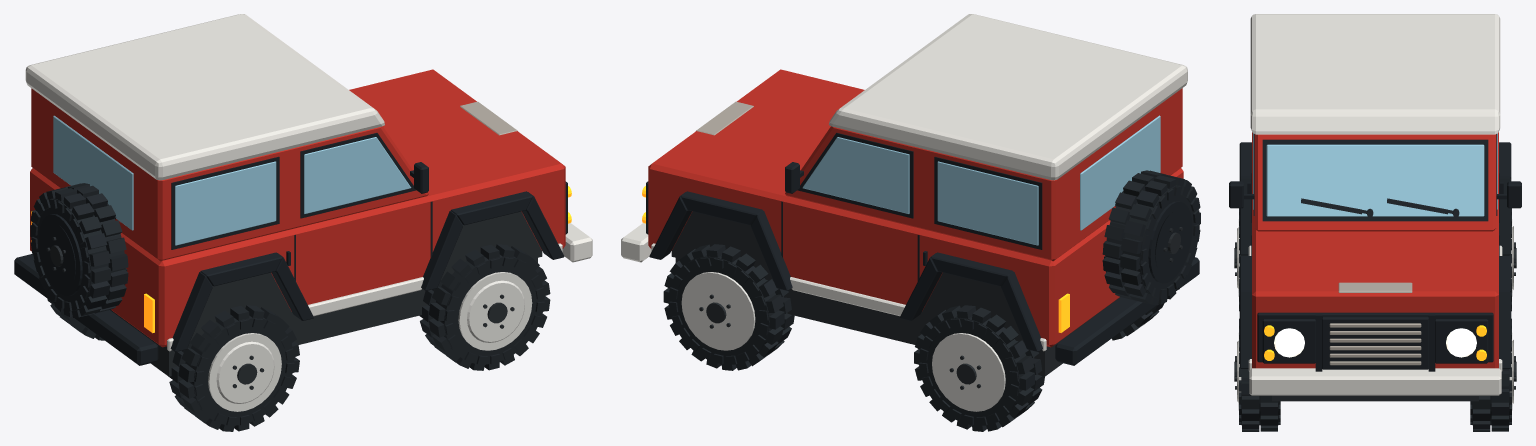
File: outlandish.glb
3 views of the same model, side by side, from view 1: azimuth 30°, elevation 25°; view 2: azimuth 150°, elevation 25°; view 3: azimuth 270°, elevation 25° (orthographic). The views are drawn at different scales.
Visible parts, largest first — view 1: Defender_Body_Red, Defender_Roof_White, Defender_Tire, Defender_Trim_Black, Defender_Glass, Defender_Underbody, Defender_Rim_White, Defender_Grille_Silver; view 2: Defender_Body_Red, Defender_Roof_White, Defender_Tire, Defender_Trim_Black, Defender_Glass, Defender_Underbody, Defender_Rim_White, Defender_Grille_Silver; view 3: Defender_Roof_White, Defender_Body_Red, Defender_Trim_Black, Defender_Glass, Defender_Tire, Defender_Grille_Silver, Defender_Underbody, Defender_Headlamp, Defender_Rim_White, Defender_Indicator.
Boxes of the visible parts, box(x1,y1,x2,y2) form: Defender_Body_Red: box(30, 69, 565, 347); Defender_Roof_White: box(25, 14, 592, 351); Defender_Tire: box(30, 183, 550, 431); Defender_Trim_Black: box(14, 133, 567, 365); Defender_Glass: box(53, 115, 411, 245); Defender_Underbody: box(46, 211, 542, 389); Defender_Rim_White: box(208, 272, 532, 411); Defender_Grille_Silver: box(460, 101, 518, 135); Defender_Body_Red: box(648, 69, 1183, 347); Defender_Roof_White: box(621, 14, 1187, 351); Defender_Tire: box(663, 170, 1200, 431); Defender_Trim_Black: box(646, 132, 1199, 365); Defender_Glass: box(802, 115, 1160, 245); Defender_Underbody: box(671, 211, 1182, 389); Defender_Rim_White: box(681, 272, 1005, 411); Defender_Grille_Silver: box(696, 101, 753, 135); Defender_Roof_White: box(1248, 14, 1502, 395); Defender_Body_Red: box(1252, 132, 1498, 368); Defender_Trim_Black: box(1229, 134, 1521, 371); Defender_Glass: box(1253, 133, 1497, 216); Defender_Tire: box(1239, 208, 1511, 431); Defender_Grille_Silver: box(1329, 282, 1421, 365); Defender_Underbody: box(1234, 242, 1516, 401); Defender_Headlamp: box(1274, 328, 1476, 357); Defender_Rim_White: box(1237, 219, 1513, 410); Defender_Indicator: box(1264, 325, 1486, 360).
Bounding box in the file's own units: 3.83 × 2.17 × 2.18.
